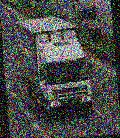truck: (17, 8, 97, 122)
